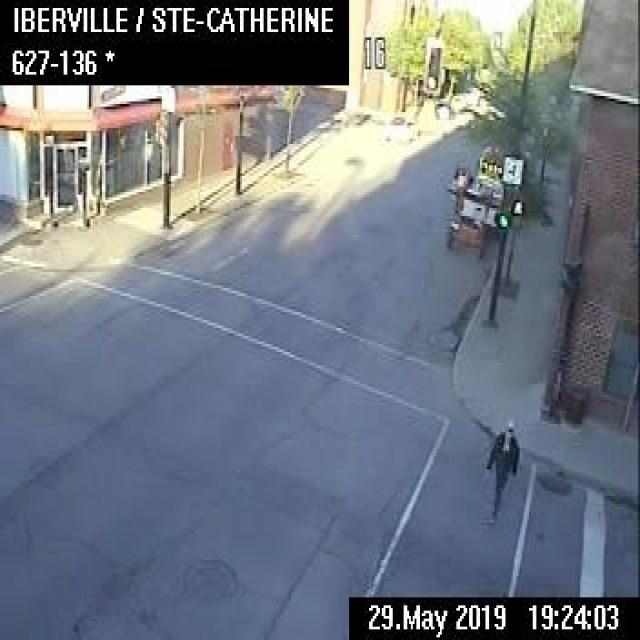pedestrian: (482, 416, 520, 528)
vehicle: (445, 150, 500, 253), (377, 113, 421, 146), (432, 97, 452, 118)
